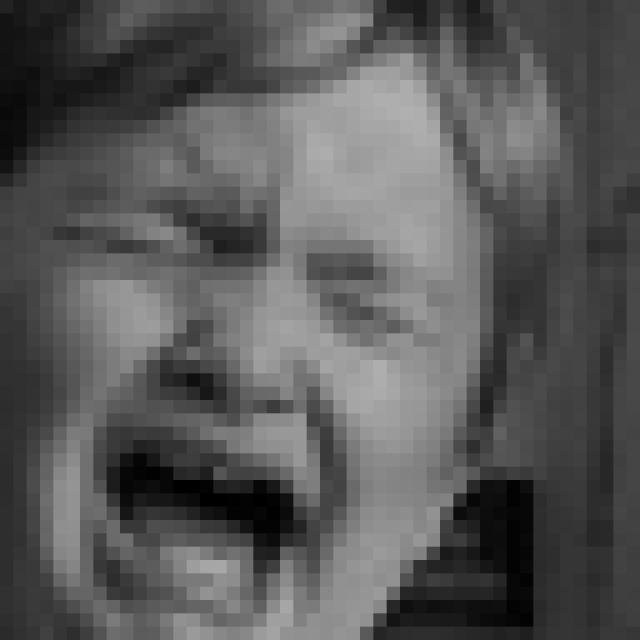sad: (48, 135, 457, 640)
